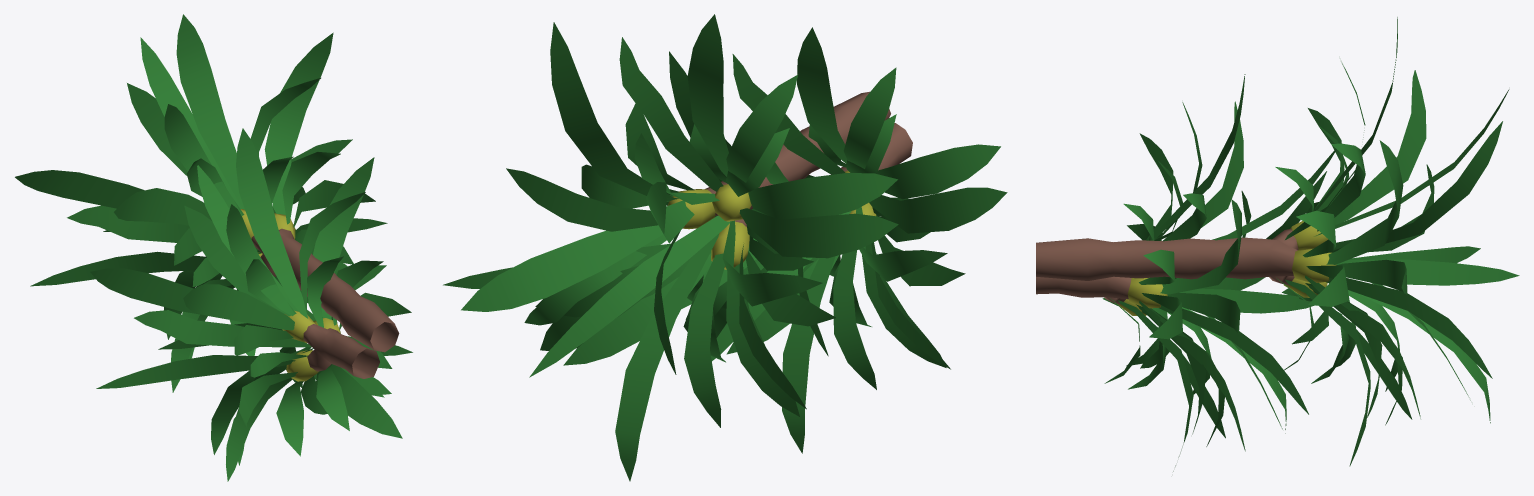
File: plant-big.glb
3 views of the same model, side by side, from view 1: azimuth 30°, elevation 25°; view 2: azimuth 150°, elevation 25°; view 3: azimuth 270°, elevation 25° (orthographic). The views are drawn at different scales.
Parts seen in each view (by area): view 1: flower_024; view 2: flower_024; view 3: flower_024.
Boxes of the visible parts, bbox=[...] form: flower_024: bbox=[15, 14, 412, 481]; flower_024: bbox=[443, 14, 1007, 481]; flower_024: bbox=[1036, 17, 1519, 471].
Size of the model in its own units: 1.74 by 1.73 by 1.75.
Materials: 1 (1 with a texture image).
